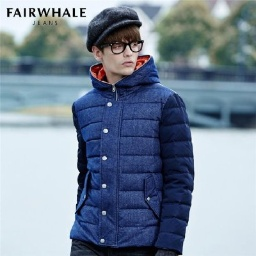face: (91, 23, 140, 76)
